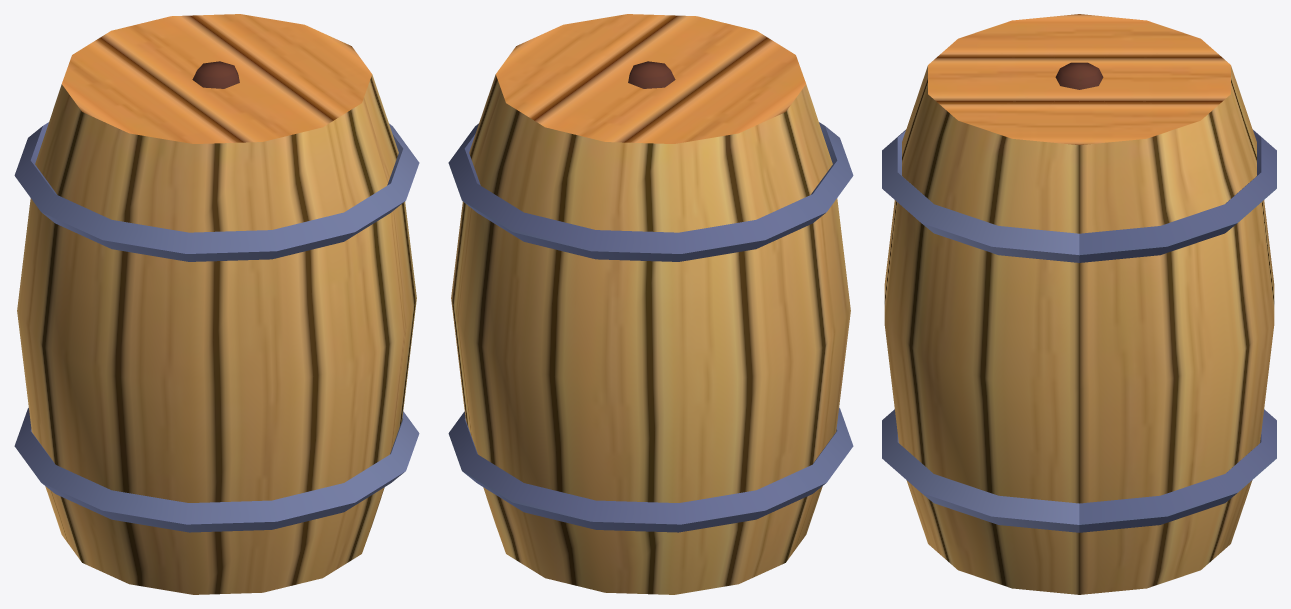
Rendered from barrel.glb.
The picture shows the model from 3 angles, left to right: view 1: azimuth 30°, elevation 25°; view 2: azimuth 150°, elevation 25°; view 3: azimuth 270°, elevation 25°; orthographic projection.
Visible parts, largest first — view 1: barrel; view 2: barrel; view 3: barrel.
Part boxes in pixels (x1,y1,x2,y2): barrel: [14, 14, 419, 594]; barrel: [448, 14, 853, 594]; barrel: [882, 14, 1276, 594].
Bounding box in the file's own units: 0.7512 × 0.9475 × 0.7324.
Materials: 2 (2 with a texture image).
